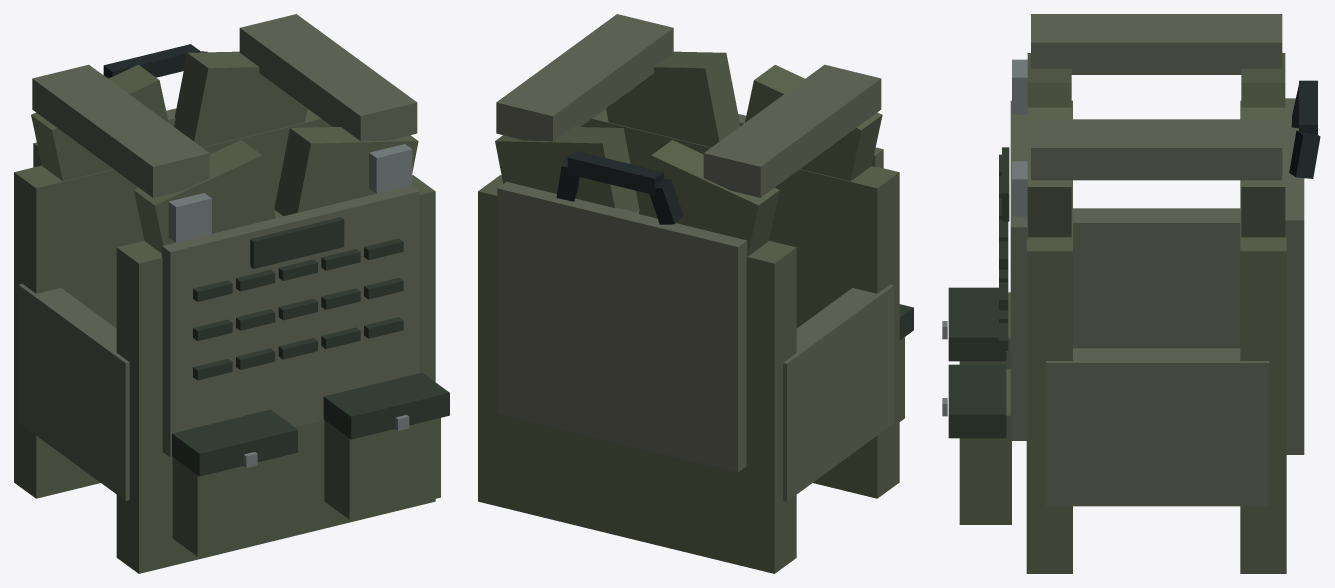
Rendered from FSA_ARMOR_Vest_001_Ballistic.glb.
3 renders of one model, left to right at view 1: azimuth 30°, elevation 25°; view 2: azimuth 150°, elevation 25°; view 3: azimuth 270°, elevation 25°, orthographic. The views are drawn at different scales.
Visible parts, largest first — view 1: FrontPanel, Torso_0_112, Torso_-0_092, SideBand_-1, Shoulder_-1, Shoulder_1, Pouch_-1, Pouch_1, Upper_-0_092_1, Upper_0_112_1, Upper_0_112_-1, PouchFlap_1 (+21 smaller); view 2: BackPanel, Torso_-0_092, Torso_0_112, SideBand_-1, Shoulder_-1, Shoulder_1, Upper_0_112_1, Upper_-0_092_-1, Upper_-0_092_1, Upper_0_112_-1, CarryHandleTop, CarryHandleL (+1 smaller); view 3: SideBand_1, SideBand_-1, Shoulder_1, Shoulder_-1, Torso_0_112, Torso_-0_092, BackPanel, Pouch_1, FrontPanel, PouchFlap_1, PouchFlap_-1, Upper_-0_092_1 (+8 smaller).
Boxes of the visible parts, x1,y1,x2,y2 form: FrontPanel: (161, 185, 419, 457); Torso_0_112: (116, 175, 435, 573); Torso_-0_092: (14, 109, 332, 498); SideBand_-1: (18, 283, 129, 500); Shoulder_-1: (32, 64, 209, 197); Shoulder_1: (239, 14, 417, 141); Pouch_-1: (172, 455, 289, 556); Pouch_1: (324, 418, 440, 519); Upper_-0_092_1: (174, 51, 307, 147); Upper_0_112_1: (274, 127, 418, 215); Upper_0_112_-1: (133, 140, 275, 253); PouchFlap_1: (323, 372, 449, 439); BackPanel: (497, 182, 747, 472); Torso_-0_092: (478, 175, 796, 573); Torso_0_112: (581, 109, 899, 498); SideBand_-1: (783, 284, 893, 501); Shoulder_-1: (703, 64, 881, 197); Shoulder_1: (496, 14, 673, 141); Upper_0_112_1: (606, 51, 740, 147); Upper_-0_092_-1: (638, 140, 779, 256); Upper_-0_092_1: (495, 127, 639, 212); Upper_0_112_-1: (745, 65, 882, 181); CarryHandleTop: (567, 151, 663, 195); CarryHandleL: (649, 179, 683, 224); SideBand_1: (1046, 348, 1269, 506); SideBand_-1: (1073, 208, 1240, 348); Shoulder_1: (1031, 119, 1282, 180); Shoulder_-1: (1031, 14, 1282, 74); Torso_0_112: (1026, 100, 1072, 573); Torso_-0_092: (1240, 100, 1286, 573); BackPanel: (1285, 98, 1304, 454); Pouch_1: (959, 369, 1011, 524); FrontPanel: (1010, 100, 1028, 440); PouchFlap_1: (948, 364, 1006, 438); PouchFlap_-1: (948, 287, 1006, 361); Upper_-0_092_1: (1241, 107, 1285, 237).
Bounding box in the file's own units: 0.349 × 0.44 × 0.361.
